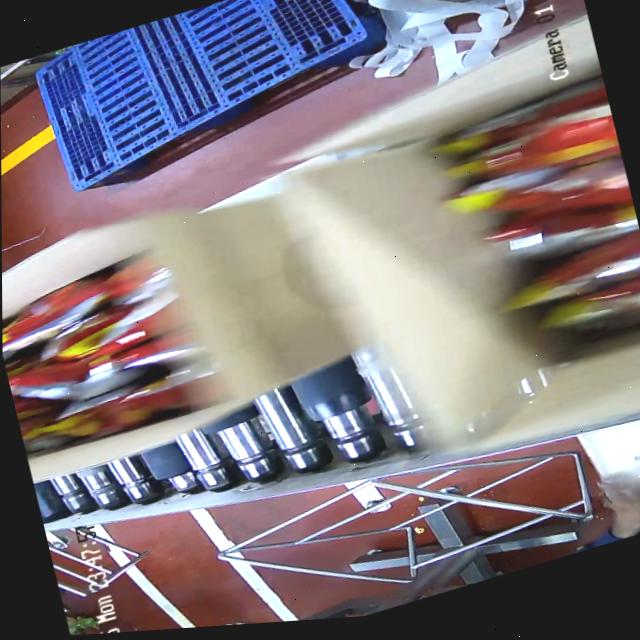MASALA: (417, 74, 640, 369), (2, 261, 196, 455)
